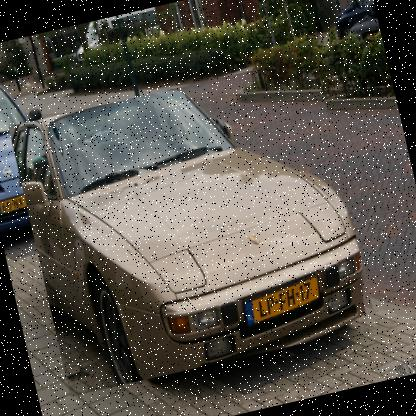Car: (9, 56, 378, 398), (0, 66, 69, 236), (327, 0, 380, 38), (344, 0, 381, 37)
